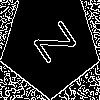Z: (25, 19, 78, 72)
